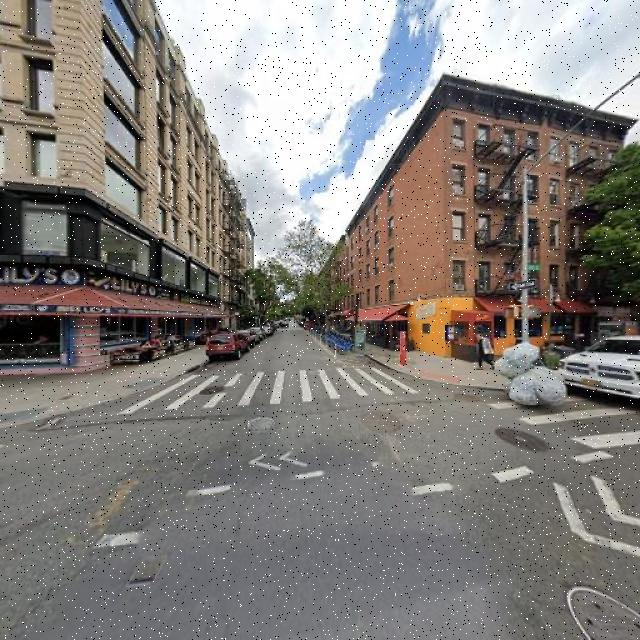Building: (1, 1, 247, 374), (329, 77, 624, 354)
